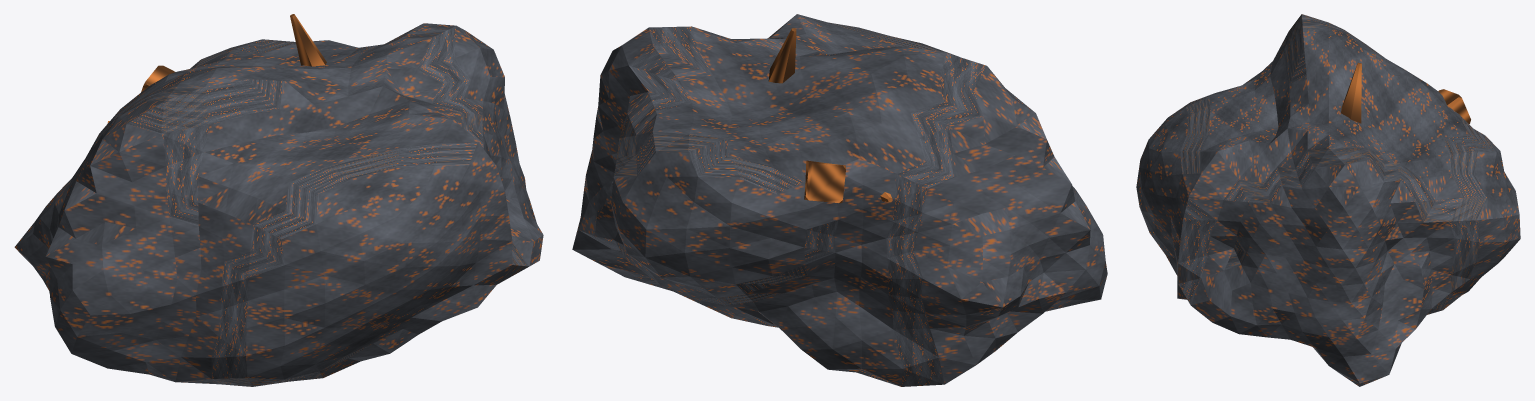
File: ast_slag_wreck_rock.glb
3 renders of one model, left to right at view 1: azimuth 30°, elevation 25°; view 2: azimuth 150°, elevation 25°; view 3: azimuth 270°, elevation 25°, orthographic. The views are drawn at different scales.
Parts seen in each view (by area): view 1: ast_slag_wreck_rock; view 2: ast_slag_wreck_rock; view 3: ast_slag_wreck_rock.
Boxes of the visible parts, left/top/right/bottom form: ast_slag_wreck_rock: left=14, top=14, right=543, bottom=386; ast_slag_wreck_rock: left=572, top=14, right=1107, bottom=386; ast_slag_wreck_rock: left=1136, top=14, right=1520, bottom=386.
Size of the model in its own units: 6.24 by 3.8 by 4.89.
1 material, 1 textured.
